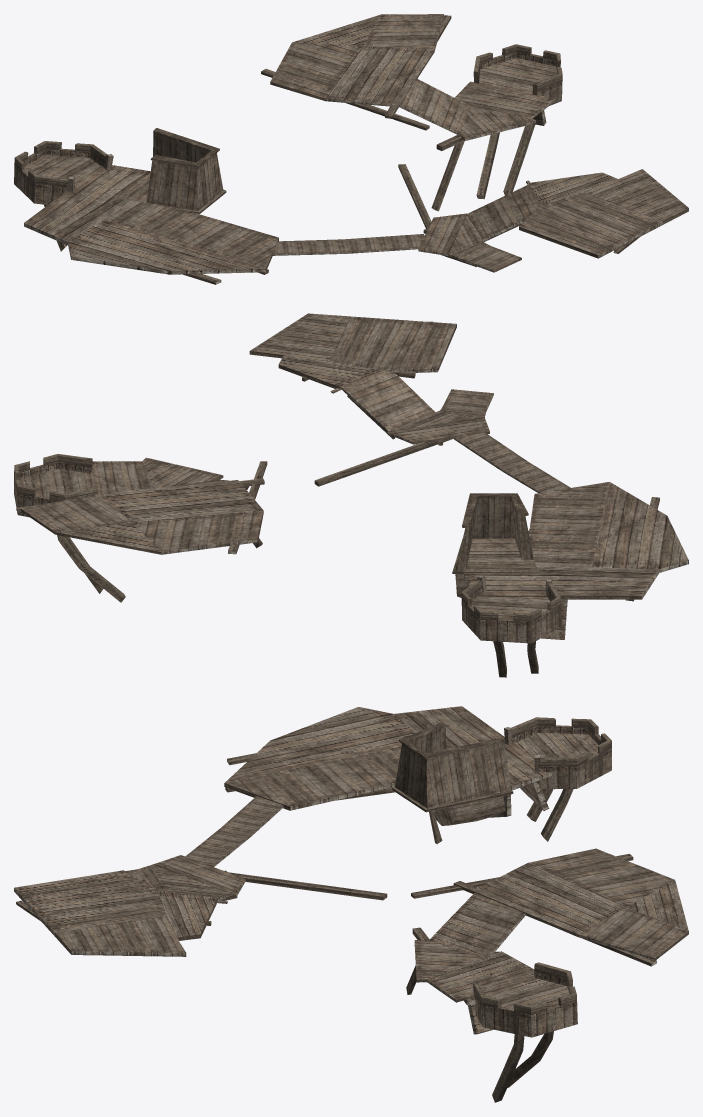
The model's file is d_sg_shouyou_dimian02_qt.FBX.
3 renders of one model, top to bottom at view 1: azimuth 30°, elevation 25°; view 2: azimuth 150°, elevation 25°; view 3: azimuth 270°, elevation 25°, orthographic. The views are drawn at different scales.
Visible parts, largest first — view 1: d_sg_shouyou_chuan01_qt; view 2: d_sg_shouyou_chuan01_qt; view 3: d_sg_shouyou_chuan01_qt.
Part boxes in pixels (x1,y1,x2,y2): d_sg_shouyou_chuan01_qt: (14,14,688,284); d_sg_shouyou_chuan01_qt: (14,313,688,677); d_sg_shouyou_chuan01_qt: (14,706,688,1102).
Bounding box in the file's own units: 6582 × 1682 × 6030.
